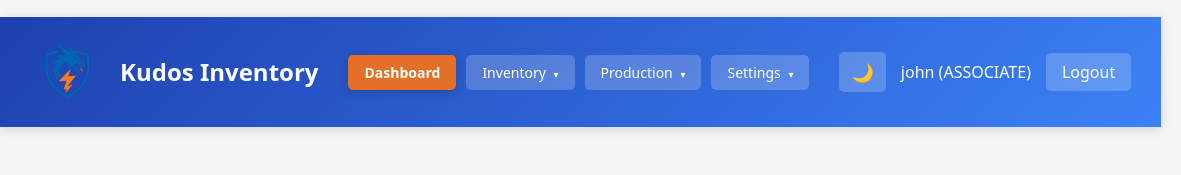
it: Navbar › hides Audit Logs from associates but shows it to admins
The width and height of the screenshot is (1181, 175).
Click the button "Settings ▾" at (760, 72), box [712,54,810,90]
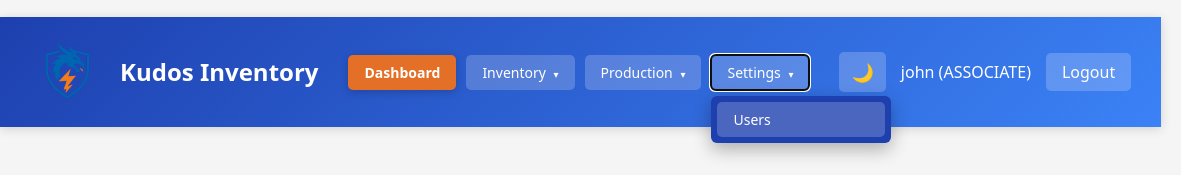
Expected: the menu item "Users" is shown, [718,102,886,136]
